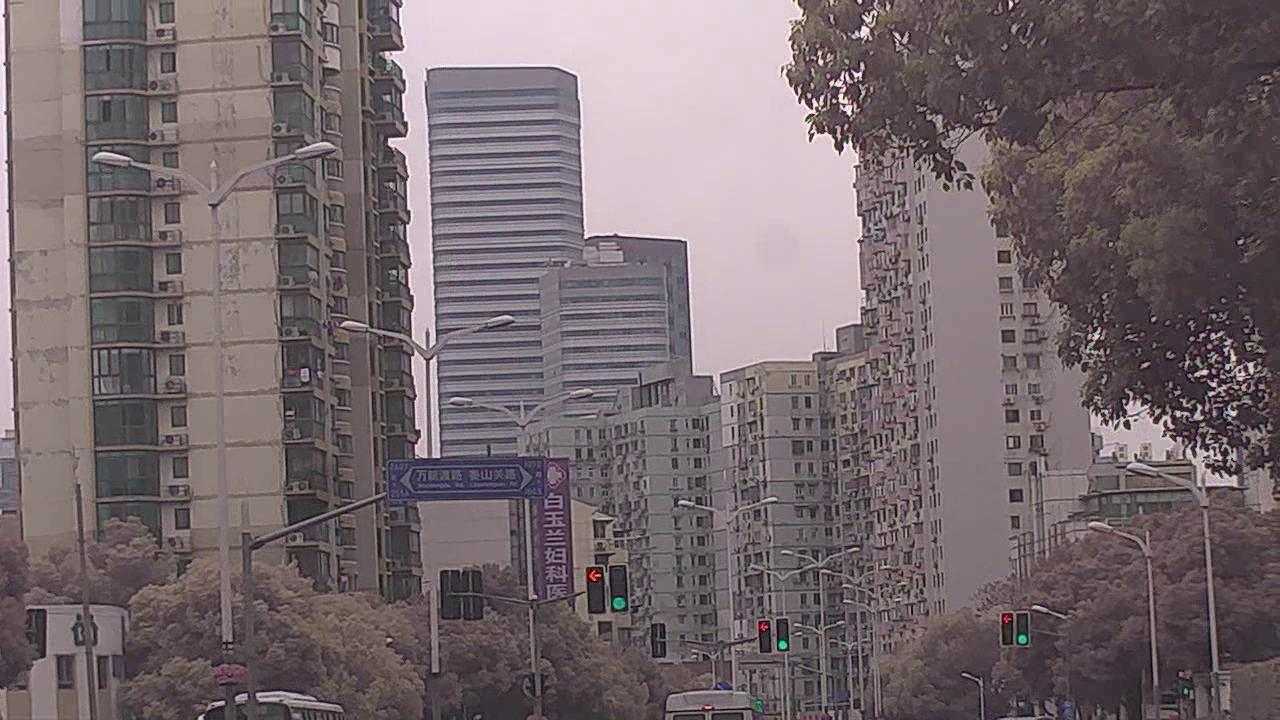traffic_light: (584, 565, 608, 614), (610, 561, 629, 611), (775, 613, 792, 654), (1000, 613, 1016, 646), (1016, 611, 1031, 646), (759, 620, 774, 653)
